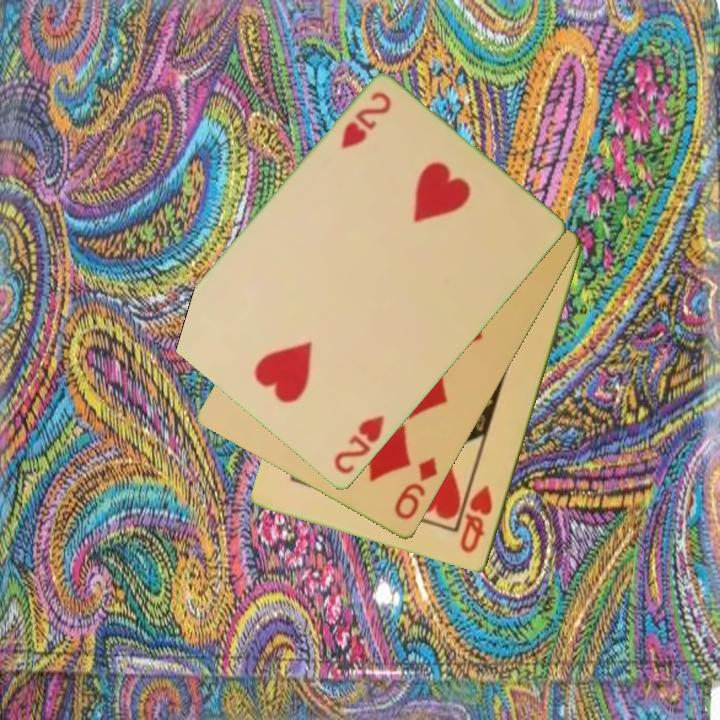2h: (330, 411, 388, 478), (337, 88, 395, 152)
9d: (390, 453, 441, 524)
Qh: (456, 483, 496, 557)
